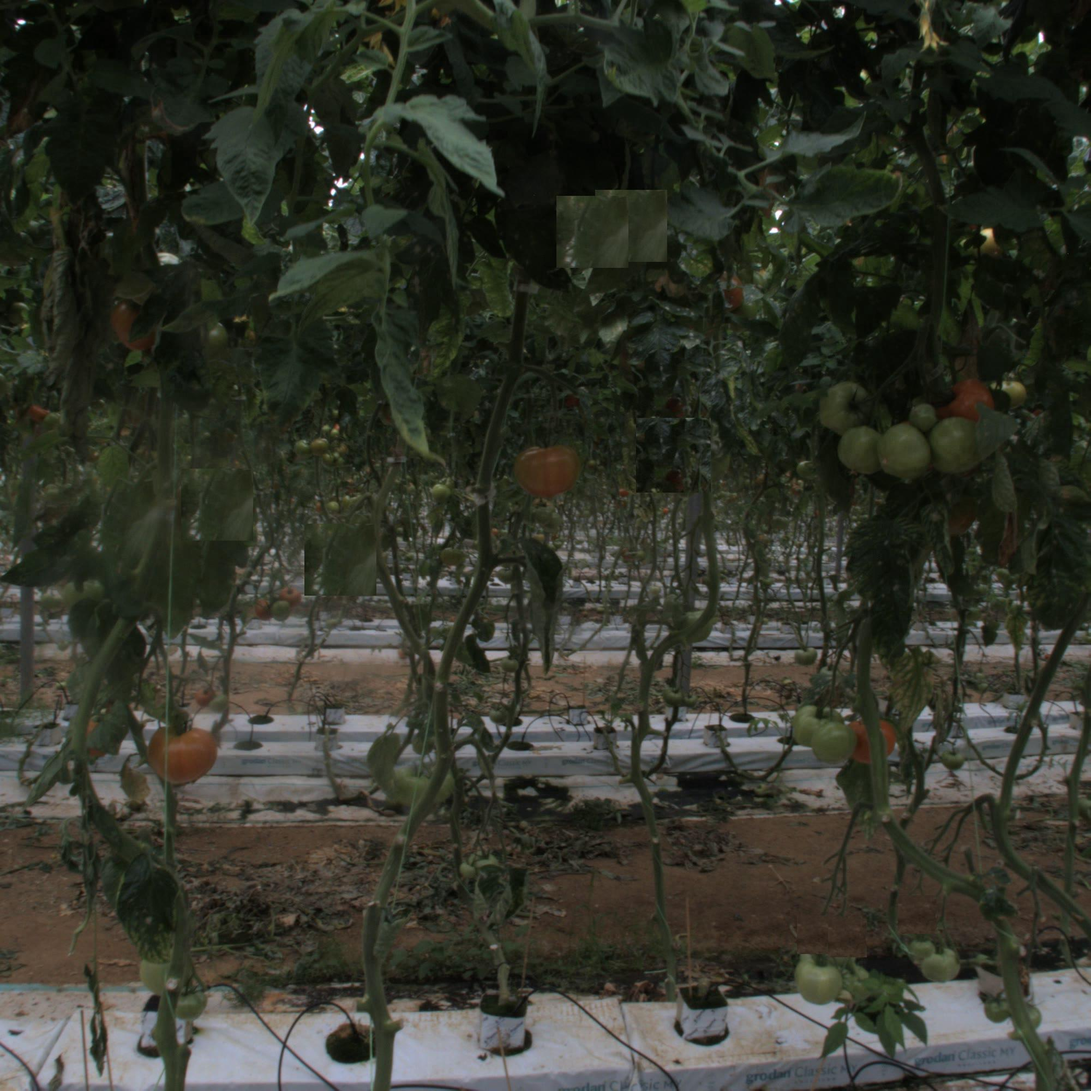fully-ripe: (151, 719, 217, 784), (937, 380, 994, 437), (847, 716, 895, 764)
semi-ripe: (514, 433, 579, 498)
unripe: (874, 424, 931, 481), (818, 379, 875, 436), (930, 416, 987, 472), (795, 957, 843, 1005), (794, 703, 842, 751), (839, 425, 887, 473), (810, 721, 854, 766), (920, 946, 959, 985)
